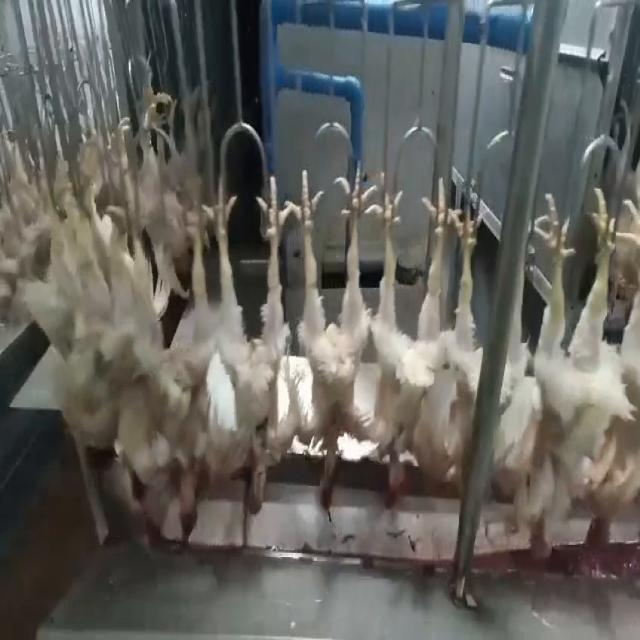chicken: (512, 186, 614, 568), (362, 163, 454, 517), (211, 163, 293, 516), (293, 157, 372, 506), (142, 185, 208, 541), (580, 186, 640, 564), (73, 185, 139, 493), (446, 188, 484, 489)
